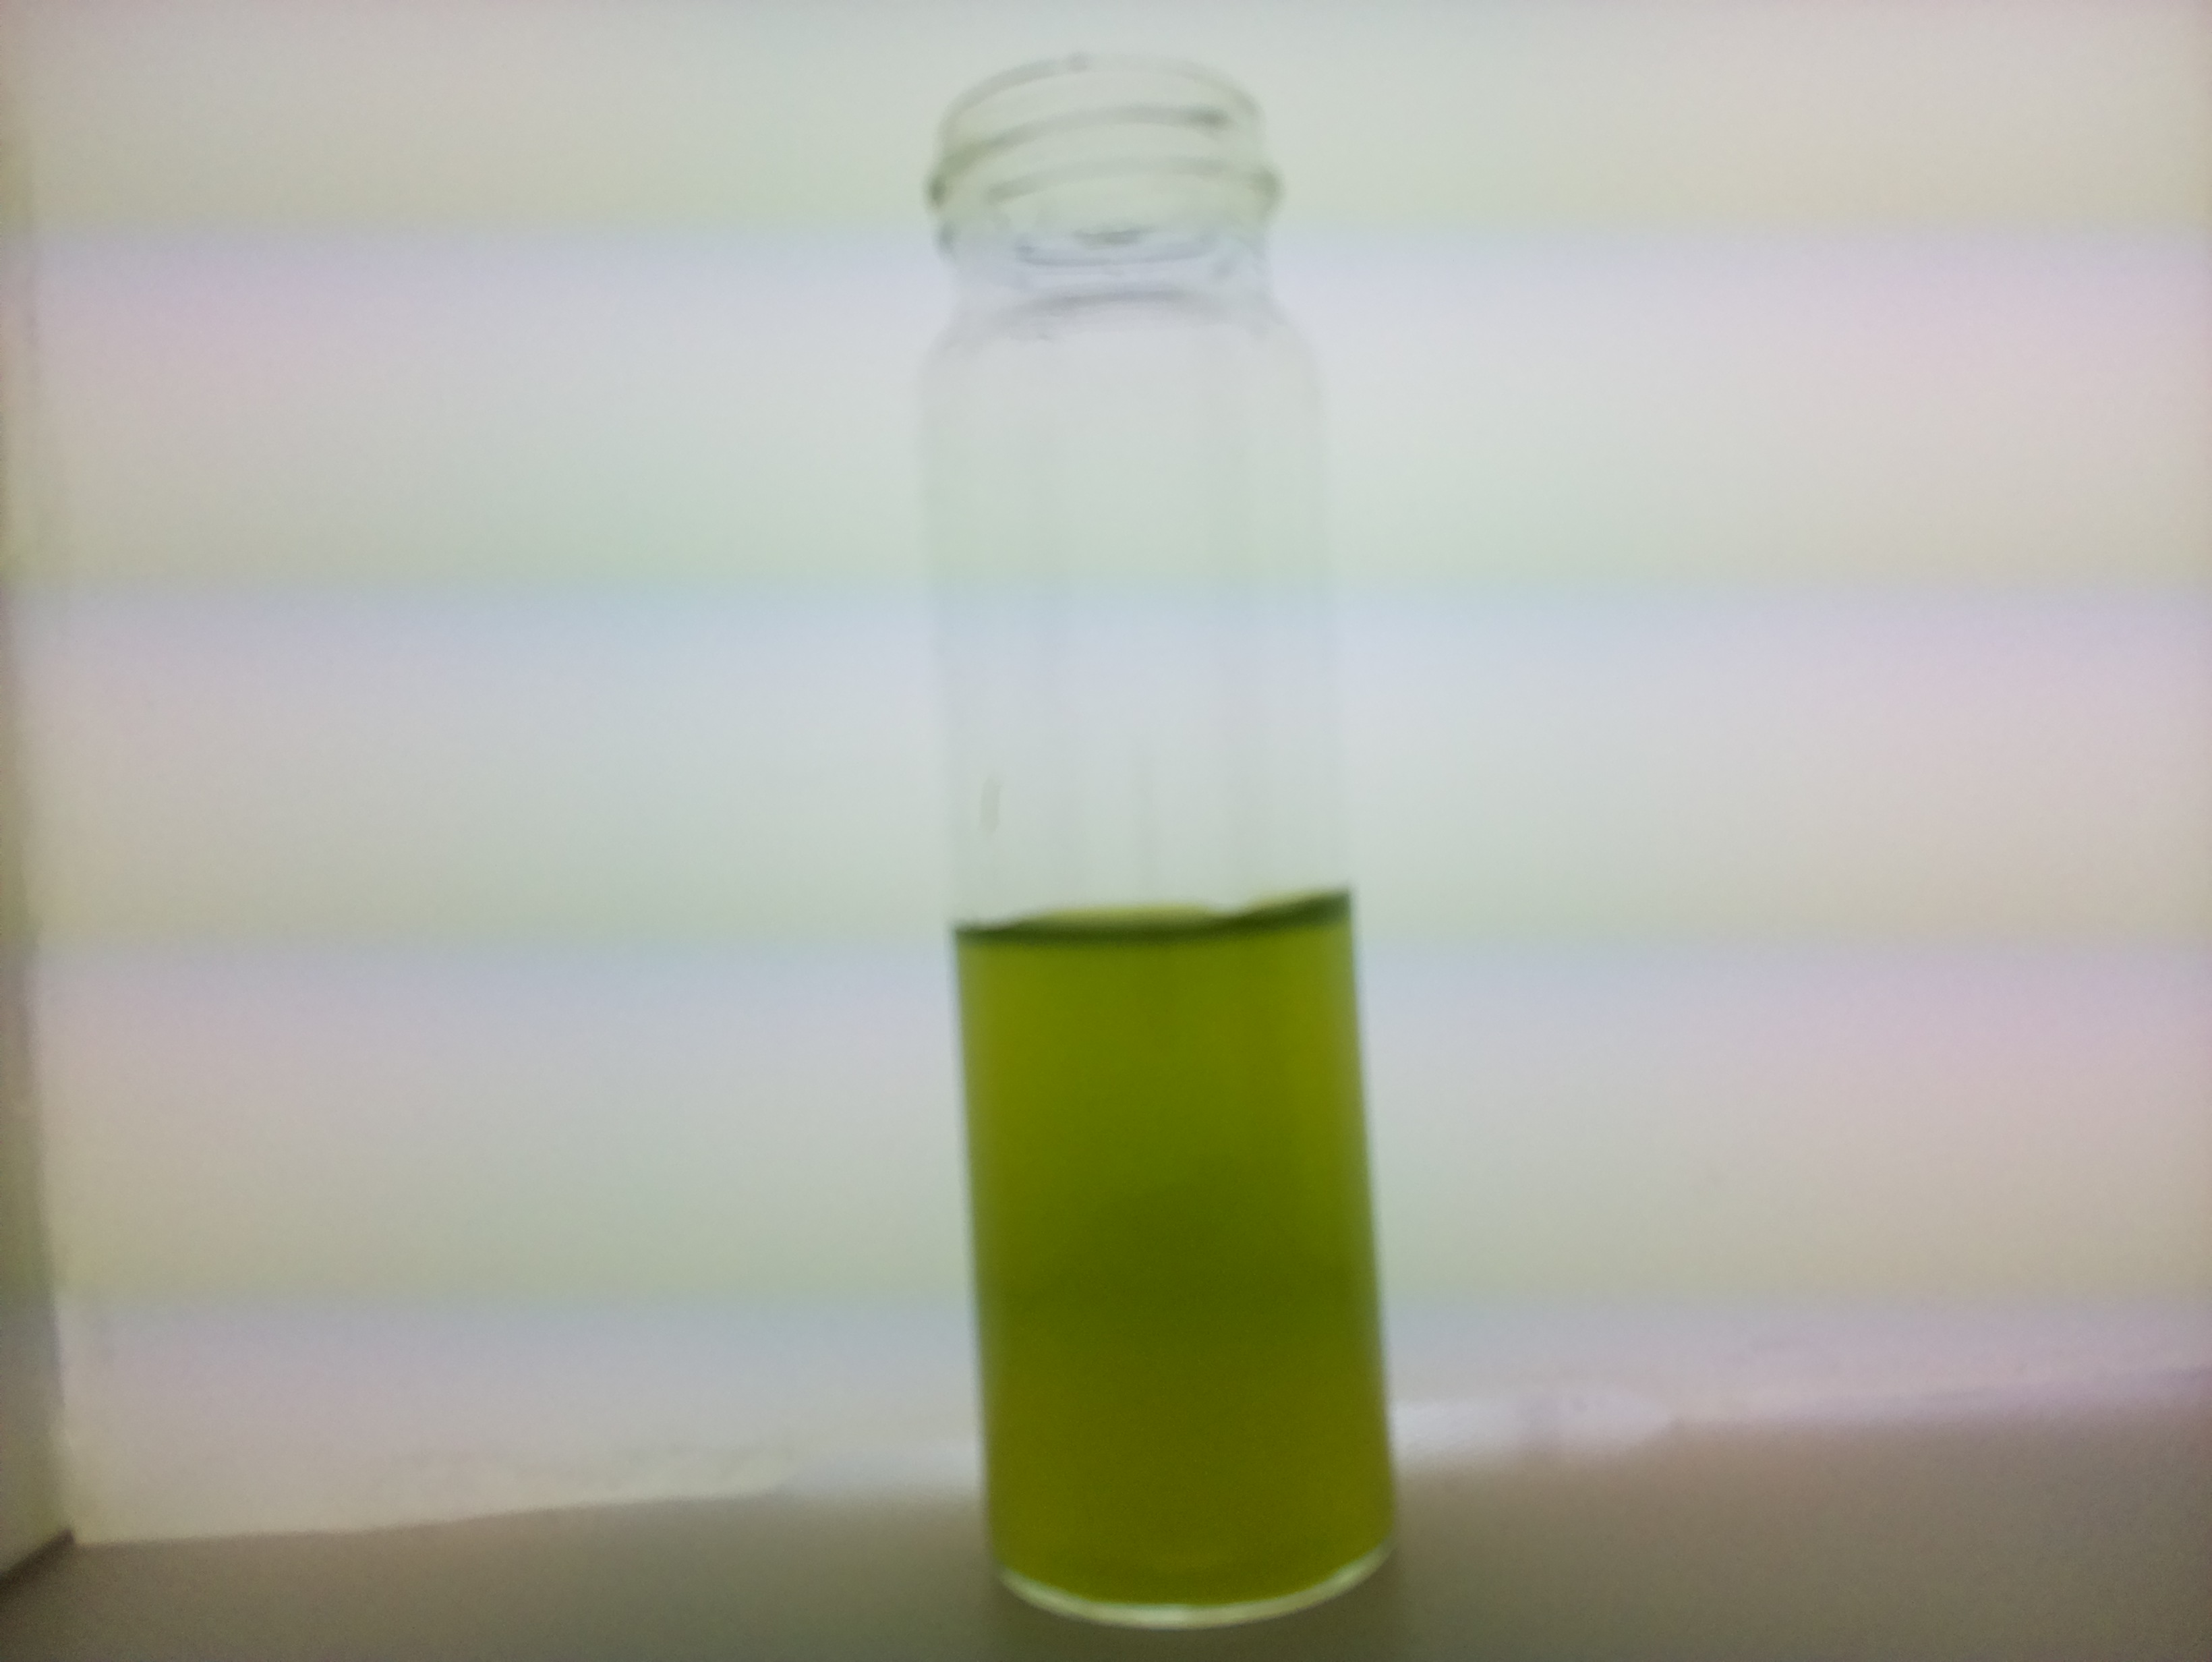colored_area: (960, 906, 1398, 1606)
